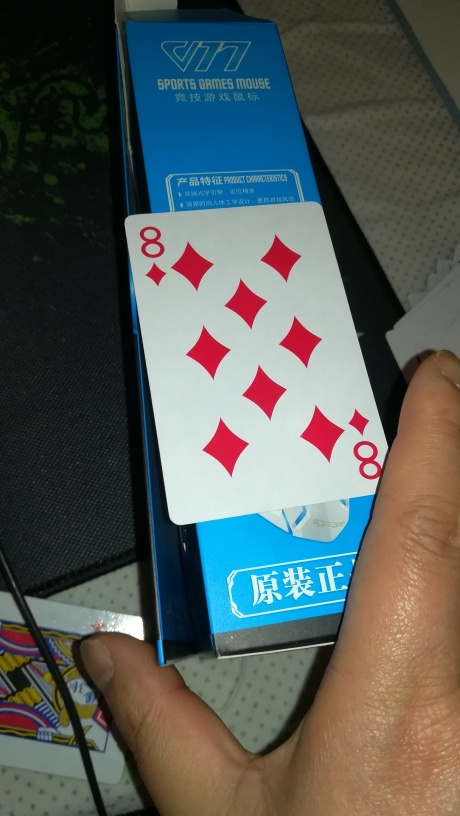fk 8: (119, 201, 391, 524)
